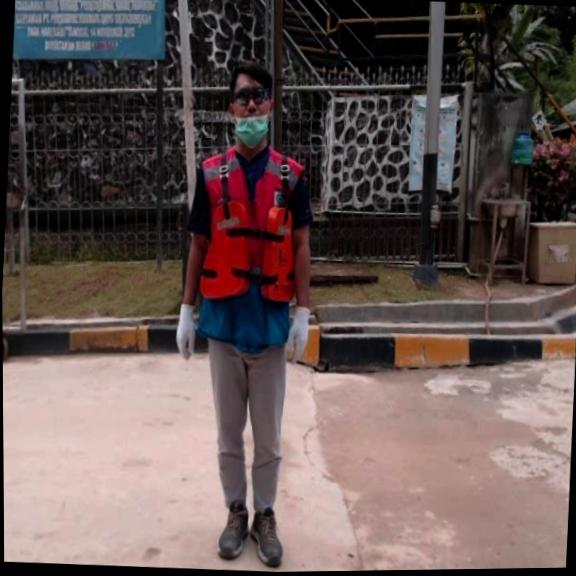safety_vest: (196, 199, 302, 304)
